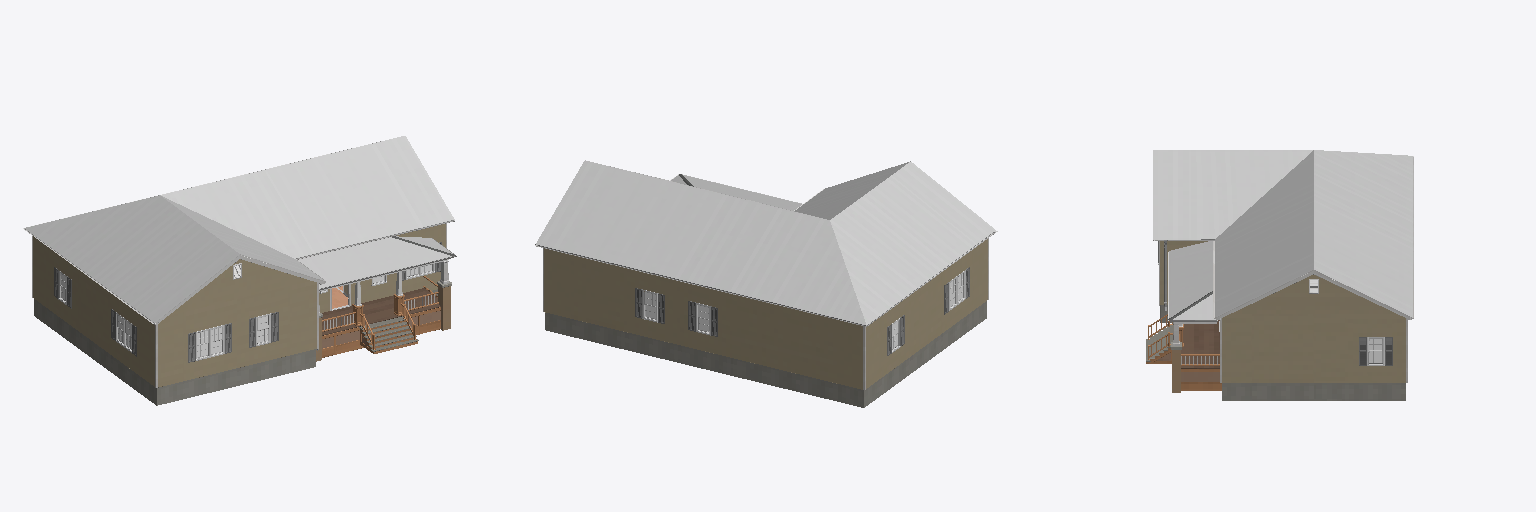
3 views of the same model, side by side, from view 1: azimuth 30°, elevation 25°; view 2: azimuth 150°, elevation 25°; view 3: azimuth 270°, elevation 25° (orthographic).
Size of the model in its own units: 0.95 by 0.3686 by 0.6644.
Materials: 1 (1 with a texture image).